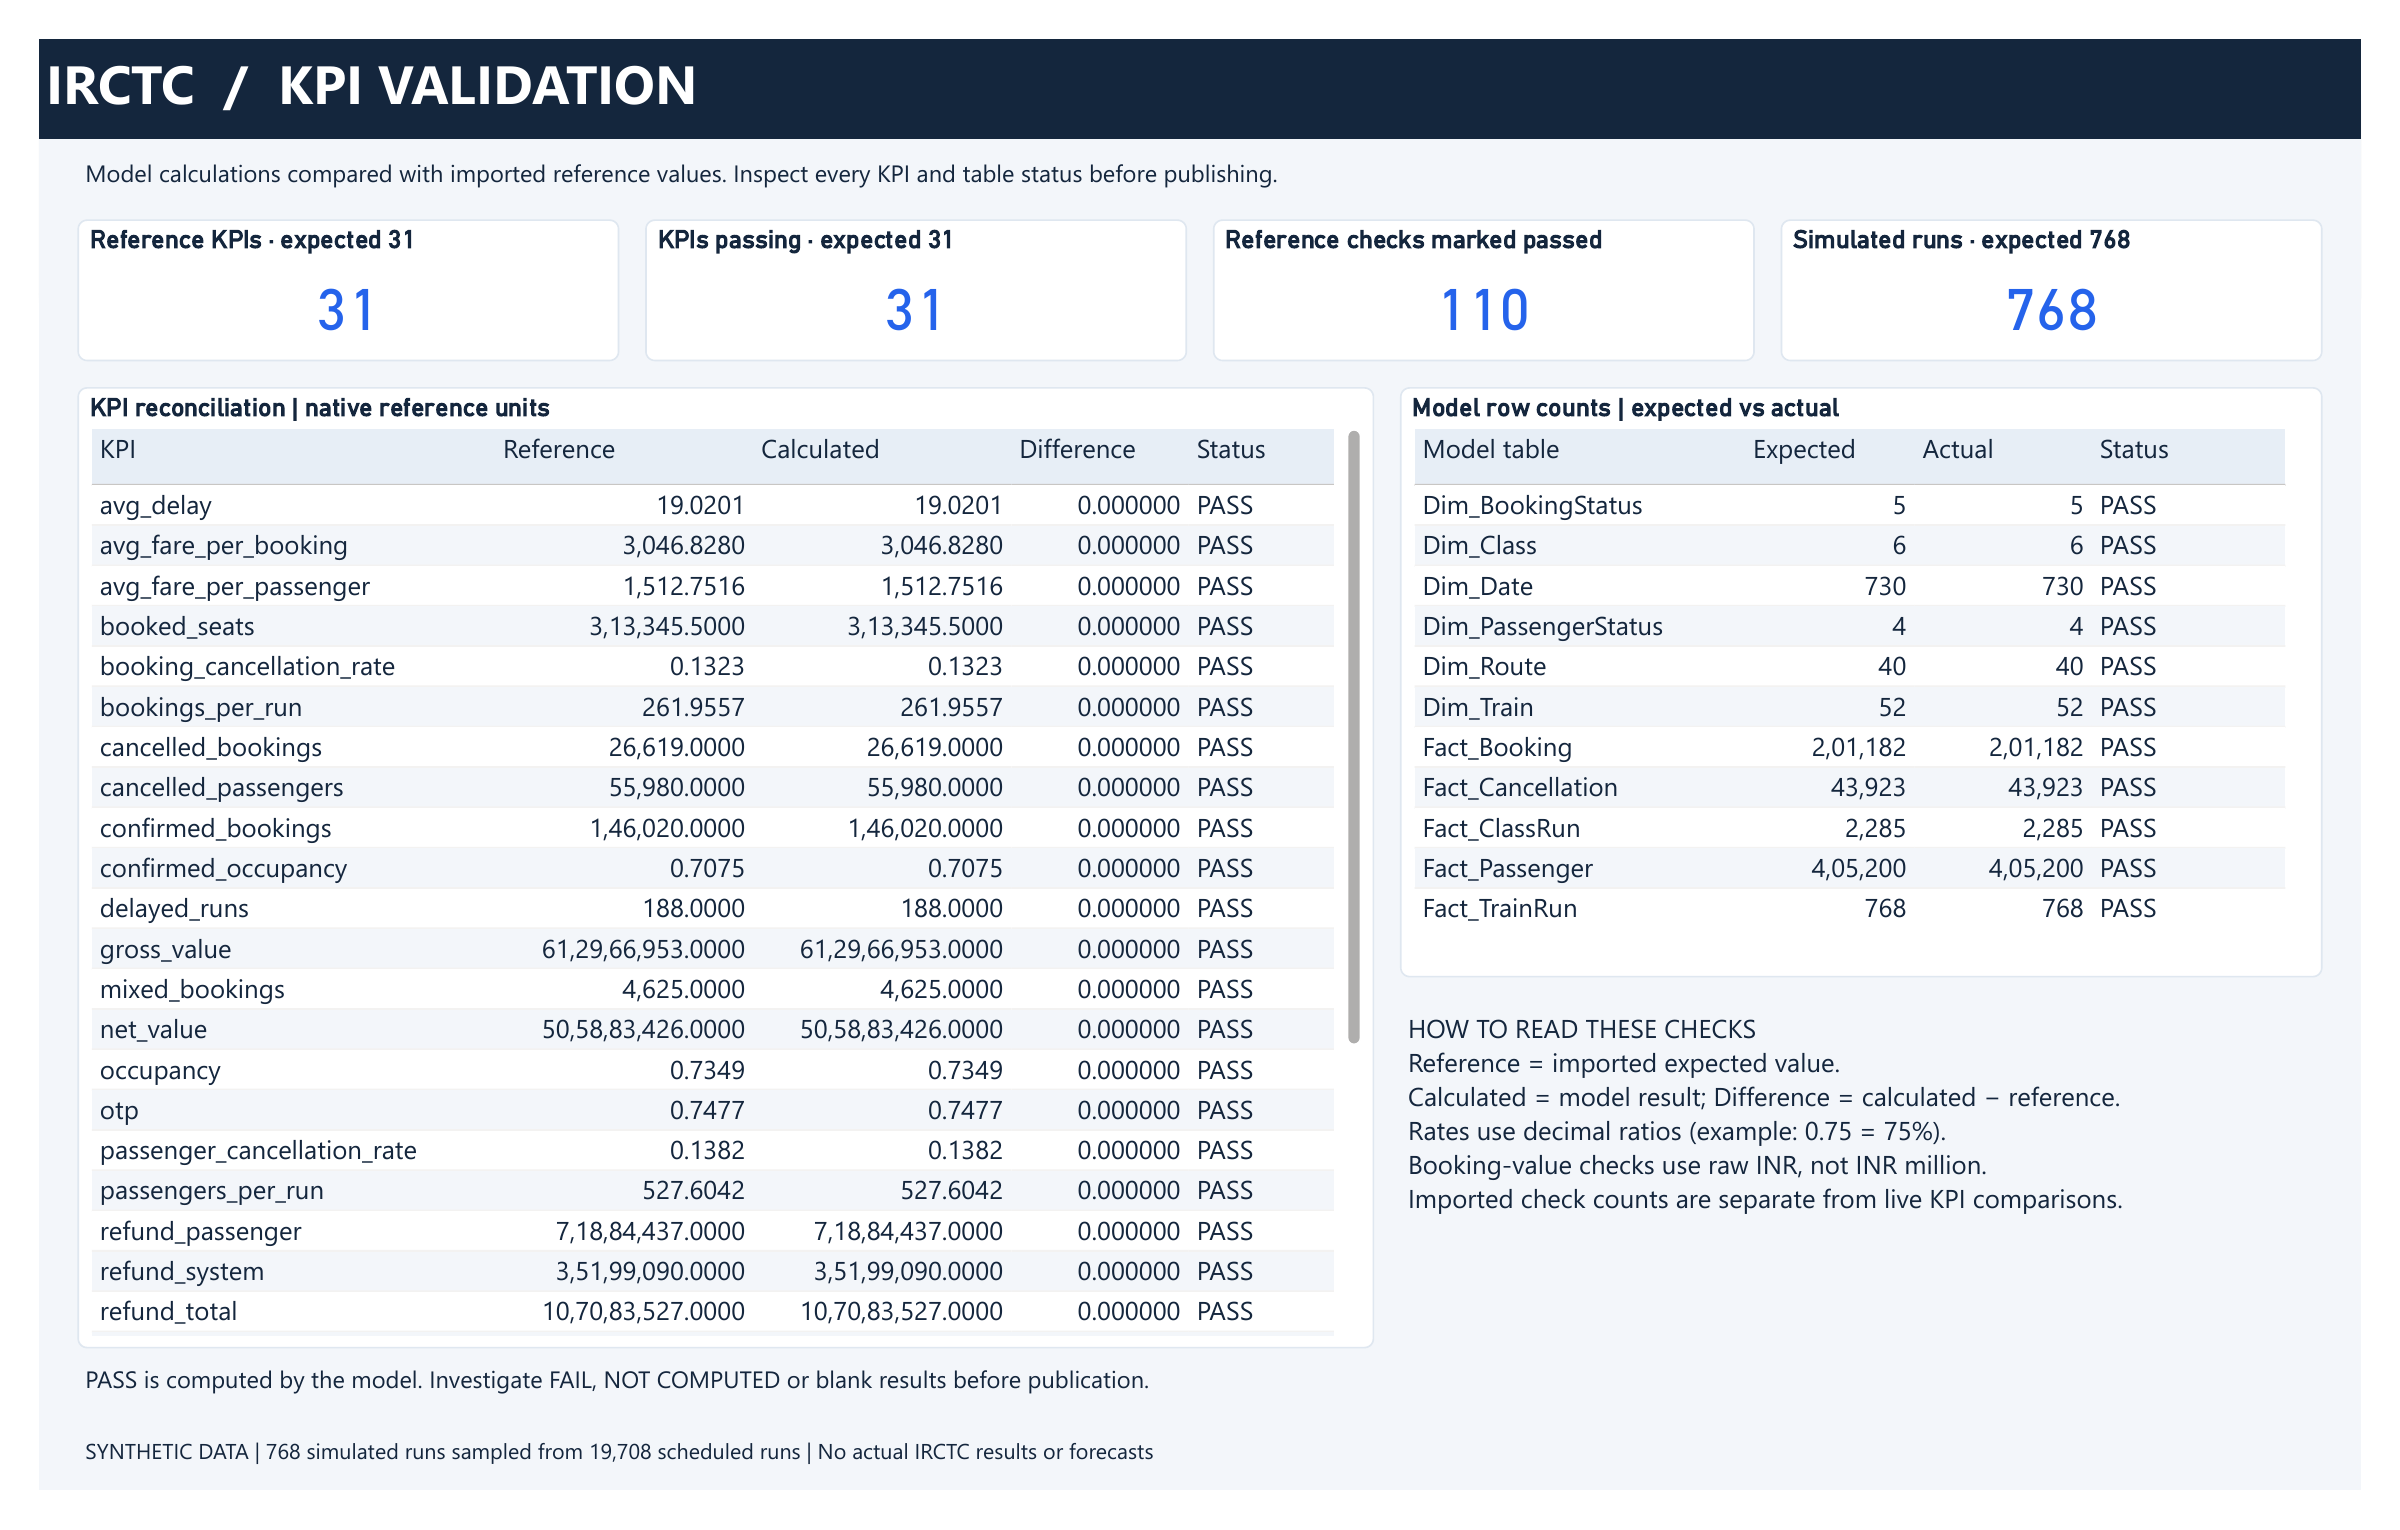

The page's visual inventory and layout, read from the dashboard file:
{"tool":"tableau","page":{"name":"06 KPI validation","canvas":[1400,1020],"ordinal":5},"visuals":[{"type":"text","box":[0,0,1400,58]},{"type":"text","box":[22,66,1356,28]},{"type":"text","box":[22,106,327,27]},{"type":"text","box":[366,106,327,27]},{"type":"text","box":[710,106,327,27]},{"type":"text","box":[1054,106,327,27]},{"type":"worksheet","title":"06 KPI Reference KPIs","mark":"Text","box":[22,133,327,61]},{"type":"worksheet","title":"06 KPI KPIs passing · expected 31","mark":"Text","box":[366,133,327,61]},{"type":"worksheet","title":"06 KPI Row checks passing · expected 11","mark":"Text","box":[710,133,327,61]},{"type":"worksheet","title":"06 KPI Imported checks marked passed","mark":"Text","box":[1054,133,327,61]},{"type":"text","box":[22,212,350,31]},{"type":"text","box":[372,212,185,31]},{"type":"text","box":[557,212,335,31]},{"type":"text","box":[914,212,464,31]},{"type":"text","box":[22,246,350,22]},{"type":"text","box":[372,246,185,22]},{"type":"worksheet","title":"CHECK total_bookings","mark":"Text","box":[557,246,335,22]},{"type":"text","box":[914,247,205,30]},{"type":"text","box":[1119,247,81,30]},{"type":"worksheet","title":"ROWS Fact_Booking","mark":"Text","box":[1200,247,178,30]},{"type":"text","box":[22,268,350,22]},{"type":"text","box":[372,268,185,22]},{"type":"worksheet","title":"CHECK total_passengers","mark":"Text","box":[557,268,335,22]},{"type":"text","box":[914,277,205,30]},{"type":"text","box":[1119,277,81,30]},{"type":"worksheet","title":"ROWS Fact_Passenger","mark":"Text","box":[1200,277,178,30]},{"type":"text","box":[22,290,350,22]},{"type":"text","box":[372,290,185,22]},{"type":"worksheet","title":"CHECK confirmed_bookings","mark":"Text","box":[557,290,335,22]},{"type":"text","box":[914,307,205,30]},{"type":"text","box":[1119,307,81,30]},{"type":"worksheet","title":"ROWS Fact_Cancellation","mark":"Text","box":[1200,307,178,30]},{"type":"text","box":[22,312,350,22]},{"type":"text","box":[372,312,185,22]},{"type":"worksheet","title":"CHECK mixed_bookings","mark":"Text","box":[557,312,335,22]},{"type":"text","box":[22,334,350,22]},{"type":"text","box":[372,334,185,22]},{"type":"worksheet","title":"CHECK cancelled_bookings","mark":"Text","box":[557,334,335,22]},{"type":"text","box":[914,337,205,30]},{"type":"text","box":[1119,337,81,30]},{"type":"worksheet","title":"ROWS Fact_ClassRun","mark":"Text","box":[1200,337,178,30]},{"type":"text","box":[22,356,350,22]},{"type":"text","box":[372,356,185,22]},{"type":"worksheet","title":"CHECK cancelled_passengers","mark":"Text","box":[557,356,335,22]},{"type":"text","box":[914,367,205,30]},{"type":"text","box":[1119,367,81,30]},{"type":"worksheet","title":"ROWS Fact_TrainRun","mark":"Text","box":[1200,367,178,30]},{"type":"text","box":[22,378,350,22]},{"type":"text","box":[372,378,185,22]},{"type":"worksheet","title":"CHECK passenger_cancellation_rate","mark":"Text","box":[557,378,335,22]},{"type":"text","box":[914,397,205,30]},{"type":"text","box":[1119,397,81,30]},{"type":"worksheet","title":"ROWS Dim_Train","mark":"Text","box":[1200,397,178,30]},{"type":"text","box":[22,400,350,22]},{"type":"text","box":[372,400,185,22]},{"type":"worksheet","title":"CHECK booking_cancellation_rate","mark":"Text","box":[557,400,335,22]},{"type":"text","box":[22,422,350,22]},{"type":"text","box":[372,422,185,22]},{"type":"worksheet","title":"CHECK gross_value","mark":"Text","box":[557,422,335,22]},{"type":"text","box":[914,427,205,30]},{"type":"text","box":[1119,427,81,30]},{"type":"worksheet","title":"ROWS Dim_Route","mark":"Text","box":[1200,427,178,30]},{"type":"text","box":[22,444,350,22]},{"type":"text","box":[372,444,185,22]},{"type":"worksheet","title":"CHECK refund_total","mark":"Text","box":[557,444,335,22]},{"type":"text","box":[914,457,205,30]},{"type":"text","box":[1119,457,81,30]},{"type":"worksheet","title":"ROWS Dim_Date","mark":"Text","box":[1200,457,178,30]},{"type":"text","box":[22,466,350,22]},{"type":"text","box":[372,466,185,22]},{"type":"worksheet","title":"CHECK refund_passenger","mark":"Text","box":[557,466,335,22]},{"type":"text","box":[914,487,205,30]},{"type":"text","box":[1119,487,81,30]},{"type":"worksheet","title":"ROWS Dim_Class","mark":"Text","box":[1200,487,178,30]},{"type":"text","box":[22,488,350,22]},{"type":"text","box":[372,488,185,22]},{"type":"worksheet","title":"CHECK refund_system","mark":"Text","box":[557,488,335,22]},{"type":"text","box":[22,510,350,22]},{"type":"text","box":[372,510,185,22]},{"type":"worksheet","title":"CHECK retained_charges","mark":"Text","box":[557,510,335,22]},{"type":"text","box":[914,517,205,30]},{"type":"text","box":[1119,517,81,30]},{"type":"worksheet","title":"ROWS Dim_BookingStatus","mark":"Text","box":[1200,517,178,30]},{"type":"text","box":[22,532,350,22]},{"type":"text","box":[372,532,185,22]},{"type":"worksheet","title":"CHECK net_value","mark":"Text","box":[557,532,335,22]},{"type":"text","box":[914,547,205,30]},{"type":"text","box":[1119,547,81,30]},{"type":"worksheet","title":"ROWS Dim_PassengerStatus","mark":"Text","box":[1200,547,178,30]},{"type":"text","box":[22,554,350,22]},{"type":"text","box":[372,554,185,22]},{"type":"worksheet","title":"CHECK avg_fare_per_passenger","mark":"Text","box":[557,554,335,22]},{"type":"text","box":[22,576,350,22]},{"type":"text","box":[372,576,185,22]},{"type":"worksheet","title":"CHECK avg_fare_per_booking","mark":"Text","box":[557,576,335,22]},{"type":"text","box":[22,598,350,22]},{"type":"text","box":[372,598,185,22]},{"type":"worksheet","title":"CHECK wl_demand","mark":"Text","box":[557,598,335,22]},{"type":"text","box":[914,603,464,323]},{"type":"text","box":[22,620,350,22]},{"type":"text","box":[372,620,185,22]},{"type":"worksheet","title":"CHECK wl_cleared","mark":"Text","box":[557,620,335,22]},{"type":"text","box":[22,642,350,22]},{"type":"text","box":[372,642,185,22]},{"type":"worksheet","title":"CHECK wl_clearance_rate","mark":"Text","box":[557,642,335,22]},{"type":"text","box":[22,664,350,22]},{"type":"text","box":[372,664,185,22]},{"type":"worksheet","title":"CHECK wl_uncleared","mark":"Text","box":[557,664,335,22]},{"type":"text","box":[22,686,350,22]},{"type":"text","box":[372,686,185,22]},{"type":"worksheet","title":"CHECK seat_supply","mark":"Text","box":[557,686,335,22]},{"type":"text","box":[22,708,350,22]},{"type":"text","box":[372,708,185,22]},{"type":"worksheet","title":"CHECK booked_seats","mark":"Text","box":[557,708,335,22]},{"type":"text","box":[22,730,350,22]},{"type":"text","box":[372,730,185,22]},{"type":"worksheet","title":"CHECK occupancy","mark":"Text","box":[557,730,335,22]},{"type":"text","box":[22,752,350,22]},{"type":"text","box":[372,752,185,22]},{"type":"worksheet","title":"CHECK confirmed_occupancy","mark":"Text","box":[557,752,335,22]},{"type":"text","box":[22,774,350,22]},{"type":"text","box":[372,774,185,22]},{"type":"worksheet","title":"CHECK waitlist_pressure","mark":"Text","box":[557,774,335,22]},{"type":"text","box":[22,796,350,22]},{"type":"text","box":[372,796,185,22]},{"type":"worksheet","title":"CHECK simulated_runs","mark":"Text","box":[557,796,335,22]},{"type":"text","box":[22,818,350,22]},{"type":"text","box":[372,818,185,22]},{"type":"worksheet","title":"CHECK bookings_per_run","mark":"Text","box":[557,818,335,22]},{"type":"text","box":[22,840,350,22]},{"type":"text","box":[372,840,185,22]},{"type":"worksheet","title":"CHECK passengers_per_run","mark":"Text","box":[557,840,335,22]},{"type":"text","box":[22,862,350,22]},{"type":"text","box":[372,862,185,22]},{"type":"worksheet","title":"CHECK otp","mark":"Text","box":[557,862,335,22]},{"type":"text","box":[22,884,350,22]},{"type":"text","box":[372,884,185,22]},{"type":"worksheet","title":"CHECK avg_delay","mark":"Text","box":[557,884,335,22]},{"type":"text","box":[22,906,350,22]},{"type":"text","box":[372,906,185,22]},{"type":"worksheet","title":"CHECK delayed_runs","mark":"Text","box":[557,906,335,22]},{"type":"text","box":[22,951,1356,27]},{"type":"text","box":[22,988,1356,23]}]}

Visuals, with their boxes on the page's 1400x1020 design canvas (x1, y1, x2, y2). These are canvas units, not pixel positions in the 2400x1530 screenshot, which may show the page scaled, cropped or inside an application window:
text: <region>0, 0, 1400, 58</region>
text: <region>22, 66, 1378, 94</region>
text: <region>22, 106, 349, 133</region>
text: <region>366, 106, 693, 133</region>
text: <region>710, 106, 1037, 133</region>
text: <region>1054, 106, 1381, 133</region>
"06 KPI Reference KPIs" worksheet (Text marks): <region>22, 133, 349, 194</region>
"06 KPI KPIs passing · expected 31" worksheet (Text marks): <region>366, 133, 693, 194</region>
"06 KPI Row checks passing · expected 11" worksheet (Text marks): <region>710, 133, 1037, 194</region>
"06 KPI Imported checks marked passed" worksheet (Text marks): <region>1054, 133, 1381, 194</region>
text: <region>22, 212, 372, 243</region>
text: <region>372, 212, 557, 243</region>
text: <region>557, 212, 892, 243</region>
text: <region>914, 212, 1378, 243</region>
text: <region>22, 246, 372, 268</region>
text: <region>372, 246, 557, 268</region>
"CHECK total_bookings" worksheet (Text marks): <region>557, 246, 892, 268</region>
text: <region>914, 247, 1119, 277</region>
text: <region>1119, 247, 1200, 277</region>
"ROWS Fact_Booking" worksheet (Text marks): <region>1200, 247, 1378, 277</region>
text: <region>22, 268, 372, 290</region>
text: <region>372, 268, 557, 290</region>
"CHECK total_passengers" worksheet (Text marks): <region>557, 268, 892, 290</region>
text: <region>914, 277, 1119, 307</region>
text: <region>1119, 277, 1200, 307</region>
"ROWS Fact_Passenger" worksheet (Text marks): <region>1200, 277, 1378, 307</region>
text: <region>22, 290, 372, 312</region>
text: <region>372, 290, 557, 312</region>
"CHECK confirmed_bookings" worksheet (Text marks): <region>557, 290, 892, 312</region>
text: <region>914, 307, 1119, 337</region>
text: <region>1119, 307, 1200, 337</region>
"ROWS Fact_Cancellation" worksheet (Text marks): <region>1200, 307, 1378, 337</region>
text: <region>22, 312, 372, 334</region>
text: <region>372, 312, 557, 334</region>
"CHECK mixed_bookings" worksheet (Text marks): <region>557, 312, 892, 334</region>
text: <region>22, 334, 372, 356</region>
text: <region>372, 334, 557, 356</region>
"CHECK cancelled_bookings" worksheet (Text marks): <region>557, 334, 892, 356</region>
text: <region>914, 337, 1119, 367</region>
text: <region>1119, 337, 1200, 367</region>
"ROWS Fact_ClassRun" worksheet (Text marks): <region>1200, 337, 1378, 367</region>
text: <region>22, 356, 372, 378</region>
text: <region>372, 356, 557, 378</region>
"CHECK cancelled_passengers" worksheet (Text marks): <region>557, 356, 892, 378</region>
text: <region>914, 367, 1119, 397</region>
text: <region>1119, 367, 1200, 397</region>
"ROWS Fact_TrainRun" worksheet (Text marks): <region>1200, 367, 1378, 397</region>
text: <region>22, 378, 372, 400</region>
text: <region>372, 378, 557, 400</region>
"CHECK passenger_cancellation_rate" worksheet (Text marks): <region>557, 378, 892, 400</region>
text: <region>914, 397, 1119, 427</region>
text: <region>1119, 397, 1200, 427</region>
"ROWS Dim_Train" worksheet (Text marks): <region>1200, 397, 1378, 427</region>
text: <region>22, 400, 372, 422</region>
text: <region>372, 400, 557, 422</region>
"CHECK booking_cancellation_rate" worksheet (Text marks): <region>557, 400, 892, 422</region>
text: <region>22, 422, 372, 444</region>
text: <region>372, 422, 557, 444</region>
"CHECK gross_value" worksheet (Text marks): <region>557, 422, 892, 444</region>
text: <region>914, 427, 1119, 457</region>
text: <region>1119, 427, 1200, 457</region>
"ROWS Dim_Route" worksheet (Text marks): <region>1200, 427, 1378, 457</region>
text: <region>22, 444, 372, 466</region>
text: <region>372, 444, 557, 466</region>
"CHECK refund_total" worksheet (Text marks): <region>557, 444, 892, 466</region>
text: <region>914, 457, 1119, 487</region>
text: <region>1119, 457, 1200, 487</region>
"ROWS Dim_Date" worksheet (Text marks): <region>1200, 457, 1378, 487</region>
text: <region>22, 466, 372, 488</region>
text: <region>372, 466, 557, 488</region>
"CHECK refund_passenger" worksheet (Text marks): <region>557, 466, 892, 488</region>
text: <region>914, 487, 1119, 517</region>
text: <region>1119, 487, 1200, 517</region>
"ROWS Dim_Class" worksheet (Text marks): <region>1200, 487, 1378, 517</region>
text: <region>22, 488, 372, 510</region>
text: <region>372, 488, 557, 510</region>
"CHECK refund_system" worksheet (Text marks): <region>557, 488, 892, 510</region>
text: <region>22, 510, 372, 532</region>
text: <region>372, 510, 557, 532</region>
"CHECK retained_charges" worksheet (Text marks): <region>557, 510, 892, 532</region>
text: <region>914, 517, 1119, 547</region>
text: <region>1119, 517, 1200, 547</region>
"ROWS Dim_BookingStatus" worksheet (Text marks): <region>1200, 517, 1378, 547</region>
text: <region>22, 532, 372, 554</region>
text: <region>372, 532, 557, 554</region>
"CHECK net_value" worksheet (Text marks): <region>557, 532, 892, 554</region>
text: <region>914, 547, 1119, 577</region>
text: <region>1119, 547, 1200, 577</region>
"ROWS Dim_PassengerStatus" worksheet (Text marks): <region>1200, 547, 1378, 577</region>
text: <region>22, 554, 372, 576</region>
text: <region>372, 554, 557, 576</region>
"CHECK avg_fare_per_passenger" worksheet (Text marks): <region>557, 554, 892, 576</region>
text: <region>22, 576, 372, 598</region>
text: <region>372, 576, 557, 598</region>
"CHECK avg_fare_per_booking" worksheet (Text marks): <region>557, 576, 892, 598</region>
text: <region>22, 598, 372, 620</region>
text: <region>372, 598, 557, 620</region>
"CHECK wl_demand" worksheet (Text marks): <region>557, 598, 892, 620</region>
text: <region>914, 603, 1378, 926</region>
text: <region>22, 620, 372, 642</region>
text: <region>372, 620, 557, 642</region>
"CHECK wl_cleared" worksheet (Text marks): <region>557, 620, 892, 642</region>
text: <region>22, 642, 372, 664</region>
text: <region>372, 642, 557, 664</region>
"CHECK wl_clearance_rate" worksheet (Text marks): <region>557, 642, 892, 664</region>
text: <region>22, 664, 372, 686</region>
text: <region>372, 664, 557, 686</region>
"CHECK wl_uncleared" worksheet (Text marks): <region>557, 664, 892, 686</region>
text: <region>22, 686, 372, 708</region>
text: <region>372, 686, 557, 708</region>
"CHECK seat_supply" worksheet (Text marks): <region>557, 686, 892, 708</region>
text: <region>22, 708, 372, 730</region>
text: <region>372, 708, 557, 730</region>
"CHECK booked_seats" worksheet (Text marks): <region>557, 708, 892, 730</region>
text: <region>22, 730, 372, 752</region>
text: <region>372, 730, 557, 752</region>
"CHECK occupancy" worksheet (Text marks): <region>557, 730, 892, 752</region>
text: <region>22, 752, 372, 774</region>
text: <region>372, 752, 557, 774</region>
"CHECK confirmed_occupancy" worksheet (Text marks): <region>557, 752, 892, 774</region>
text: <region>22, 774, 372, 796</region>
text: <region>372, 774, 557, 796</region>
"CHECK waitlist_pressure" worksheet (Text marks): <region>557, 774, 892, 796</region>
text: <region>22, 796, 372, 818</region>
text: <region>372, 796, 557, 818</region>
"CHECK simulated_runs" worksheet (Text marks): <region>557, 796, 892, 818</region>
text: <region>22, 818, 372, 840</region>
text: <region>372, 818, 557, 840</region>
"CHECK bookings_per_run" worksheet (Text marks): <region>557, 818, 892, 840</region>
text: <region>22, 840, 372, 862</region>
text: <region>372, 840, 557, 862</region>
"CHECK passengers_per_run" worksheet (Text marks): <region>557, 840, 892, 862</region>
text: <region>22, 862, 372, 884</region>
text: <region>372, 862, 557, 884</region>
"CHECK otp" worksheet (Text marks): <region>557, 862, 892, 884</region>
text: <region>22, 884, 372, 906</region>
text: <region>372, 884, 557, 906</region>
"CHECK avg_delay" worksheet (Text marks): <region>557, 884, 892, 906</region>
text: <region>22, 906, 372, 928</region>
text: <region>372, 906, 557, 928</region>
"CHECK delayed_runs" worksheet (Text marks): <region>557, 906, 892, 928</region>
text: <region>22, 951, 1378, 978</region>
text: <region>22, 988, 1378, 1011</region>
